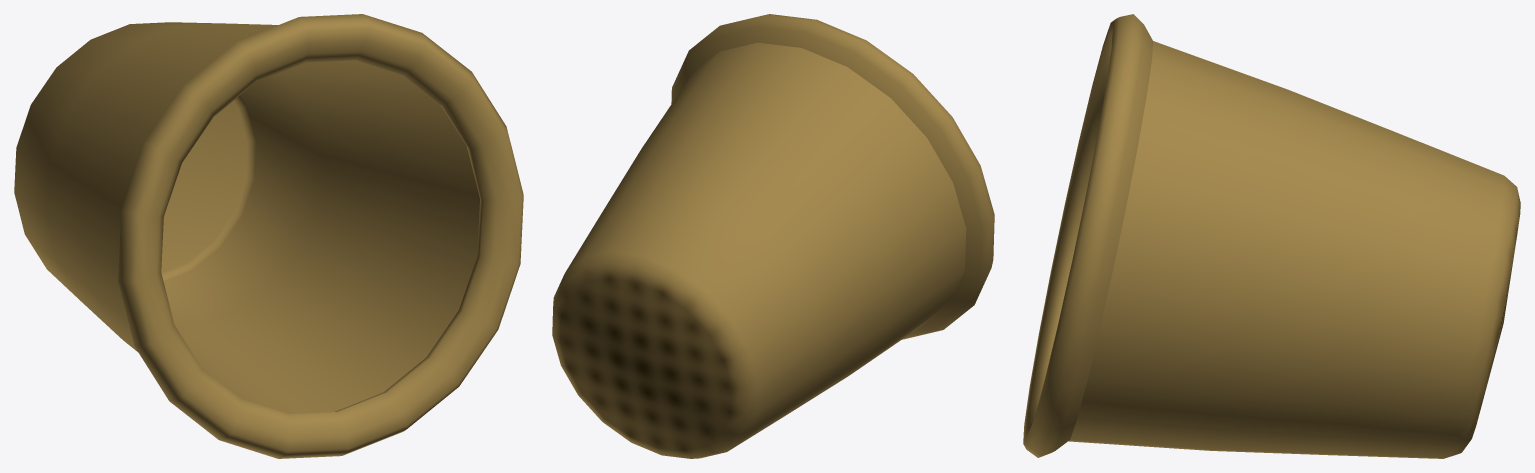
Rendered from OT_188_thimble.glb.
3 views of the same model, side by side, from view 1: azimuth 30°, elevation 25°; view 2: azimuth 150°, elevation 25°; view 3: azimuth 270°, elevation 25° (orthographic). The views are drawn at different scales.
Parts seen in each view (by area): view 1: thimble; view 2: thimble; view 3: thimble.
Boxes of the visible parts, x1,y1,x2,y2 form: thimble: [14, 14, 523, 458]; thimble: [552, 14, 994, 458]; thimble: [1023, 14, 1520, 458].
Size of the model in its own units: 0.7222 by 0.7078 by 0.7861.
1 material, 1 textured.
